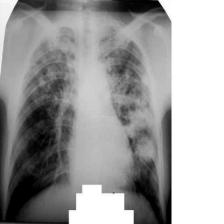tuberculosis: (4, 13, 170, 224)
